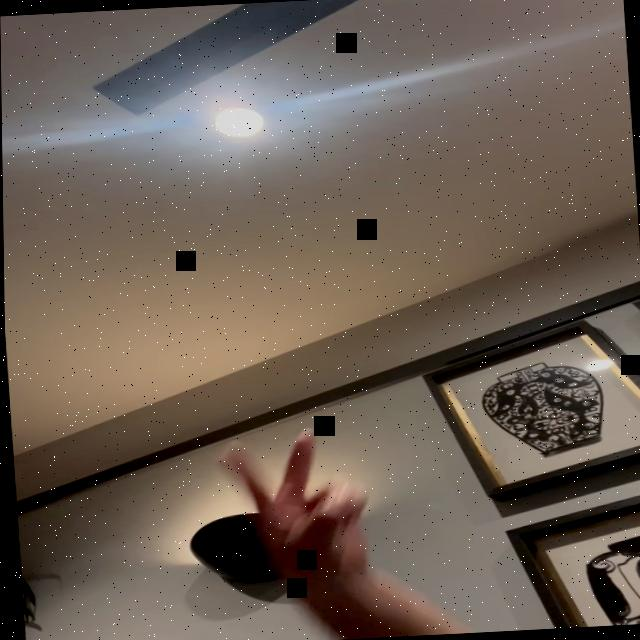Scissors: (215, 427, 376, 595)
